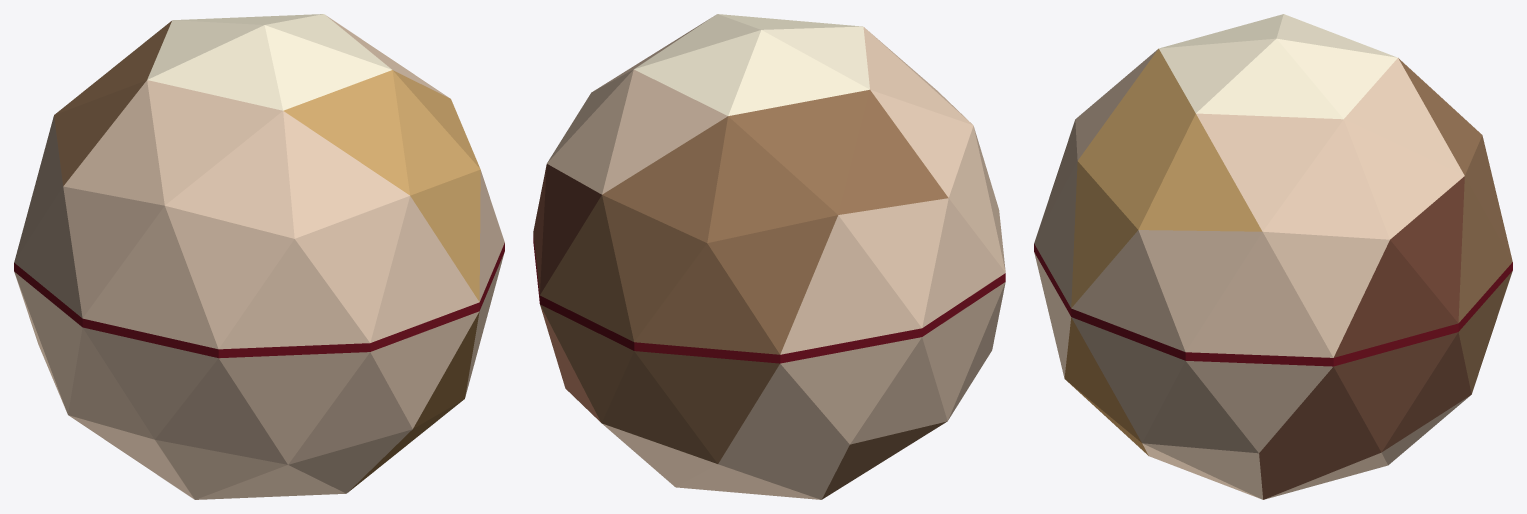
Rendered from Puzzle04_Globe.glb.
The picture shows the model from 3 angles, left to right: view 1: azimuth 30°, elevation 25°; view 2: azimuth 150°, elevation 25°; view 3: azimuth 270°, elevation 25°; orthographic projection. The views are drawn at different scales.
Visible parts, largest first — view 1: Puzzle04_Globe; view 2: Puzzle04_Globe; view 3: Puzzle04_Globe.
Boxes of the visible parts, <box> form: Puzzle04_Globe: <box>14,14,504,499</box>; Puzzle04_Globe: <box>533,14,1005,499</box>; Puzzle04_Globe: <box>1034,14,1512,499</box>.
Size of the model in its own units: 0.9474 by 0.9979 by 0.9772.
1 material, 1 textured.
